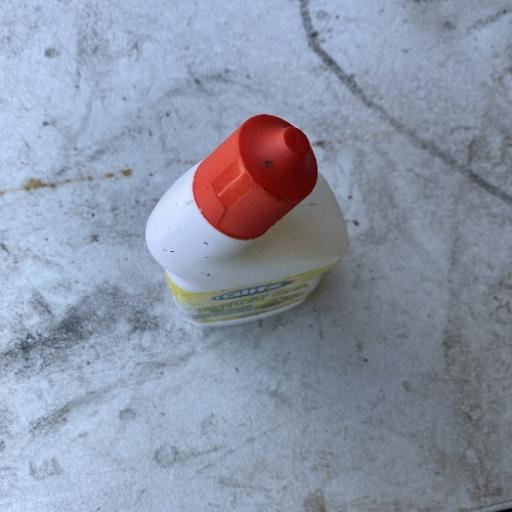Plastic: (142, 110, 352, 330)
